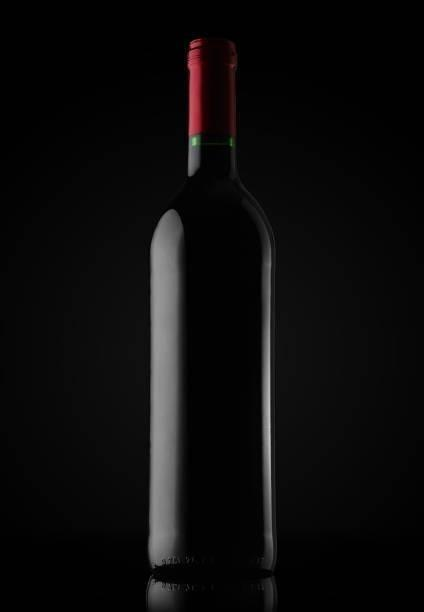bottle-glass: (141, 31, 283, 610)
